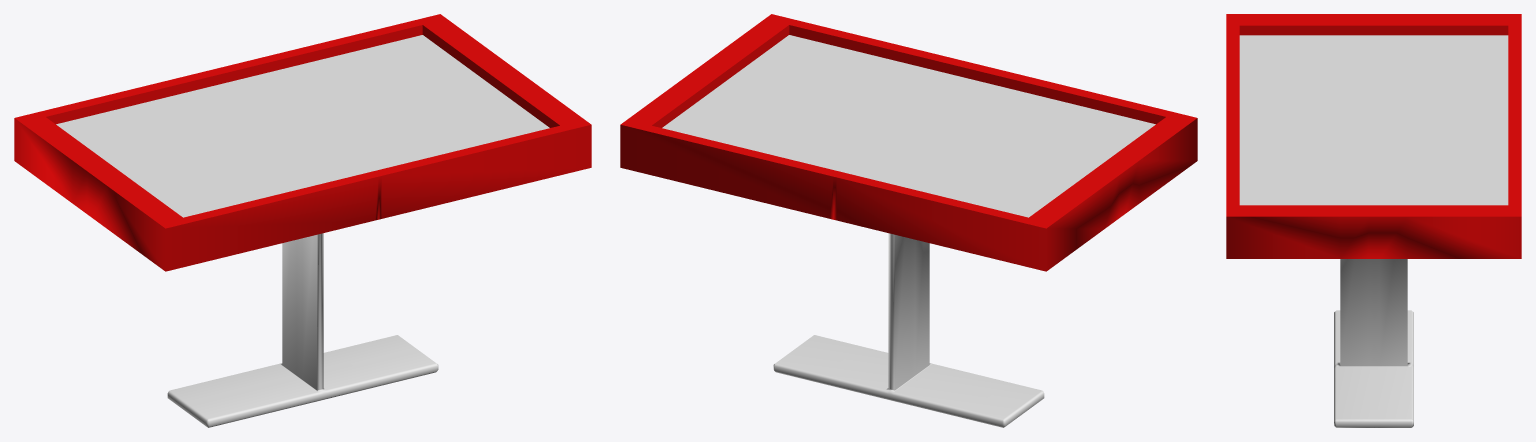
File: GasStationRoof.fbx
3 views of the same model, side by side, from view 1: azimuth 30°, elevation 25°; view 2: azimuth 150°, elevation 25°; view 3: azimuth 270°, elevation 25° (orthographic). The views are drawn at different scales.
Visible parts, largest first — view 1: Station_Roof; view 2: Station_Roof; view 3: Station_Roof.
Boxes of the visible parts, x1,y1,x2,y2 form: Station_Roof: (14, 14, 591, 427); Station_Roof: (620, 14, 1197, 427); Station_Roof: (1226, 14, 1521, 427).
Bounding box in the file's own units: 799 × 475 × 491.
